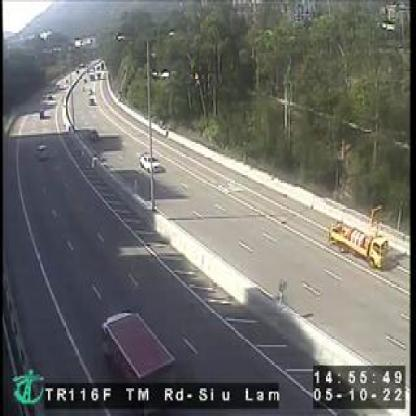Car: (139, 152, 161, 170), (35, 144, 48, 163)
Truck: (100, 310, 176, 378), (328, 222, 386, 267)
